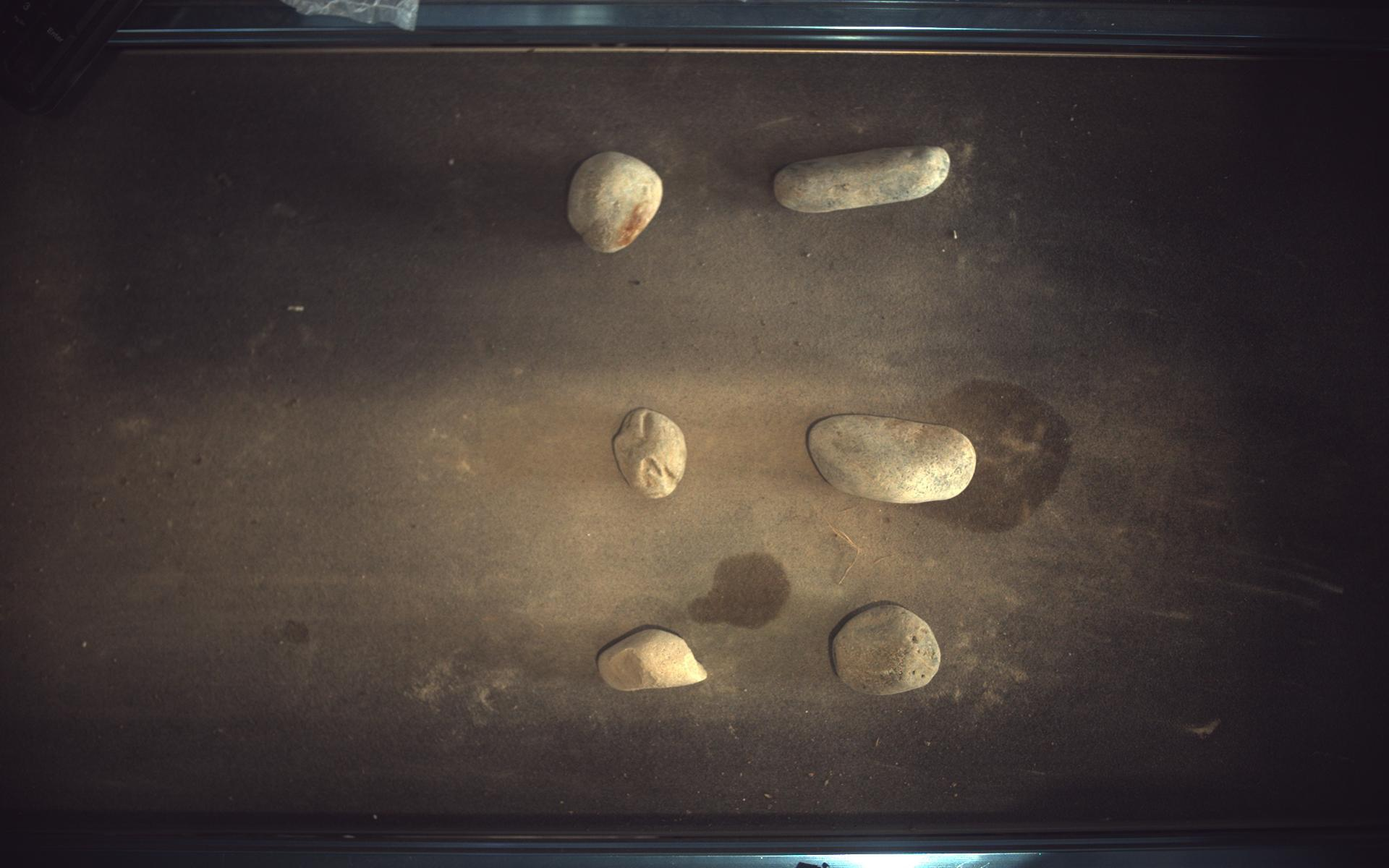stone: (809, 414, 979, 504), (776, 145, 952, 212), (833, 603, 943, 697), (568, 150, 663, 252), (598, 626, 708, 692), (613, 408, 687, 499)
